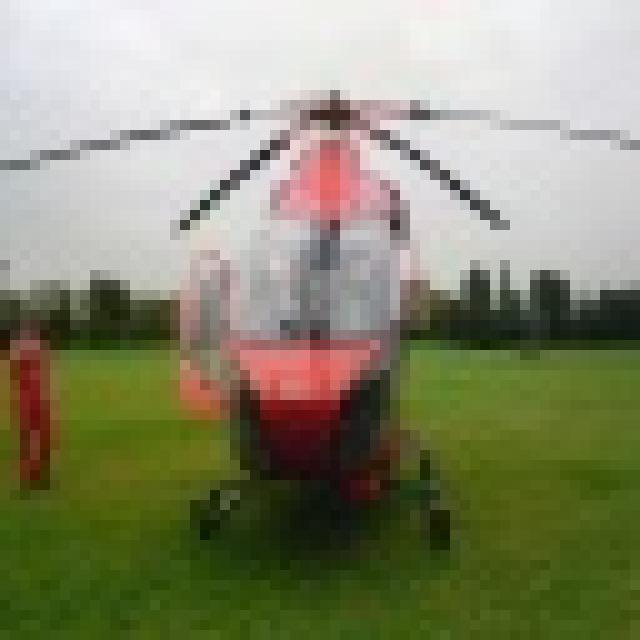Ambulance: (0, 80, 630, 550)
